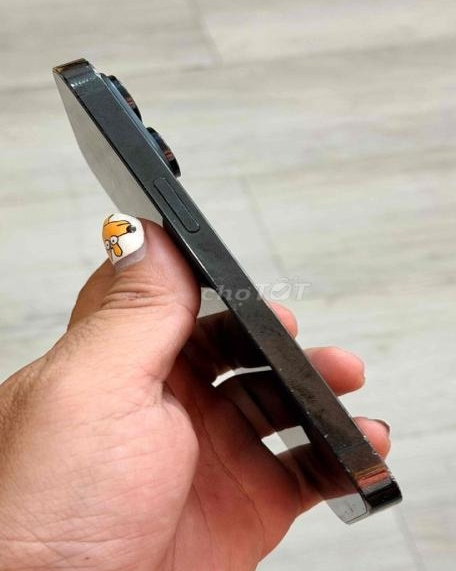physical_damage: (361, 427, 403, 482)
scratch: (149, 175, 211, 241), (282, 375, 318, 422), (246, 322, 275, 356), (207, 266, 228, 289), (78, 60, 97, 79), (324, 433, 345, 450)
